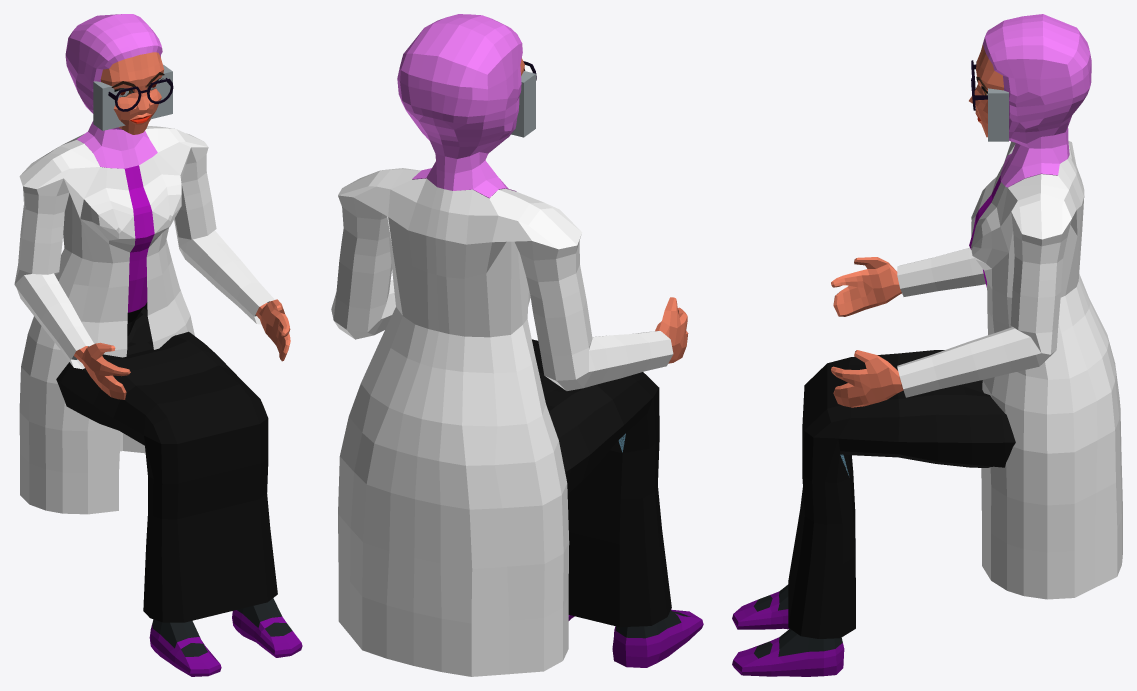
File: ScientistFemale_B_Sit_Mask.fbx
3 views of the same model, side by side, from view 1: azimuth 30°, elevation 25°; view 2: azimuth 150°, elevation 25°; view 3: azimuth 270°, elevation 25° (orthographic). The views are drawn at different scales.
Parts seen in each view (by area): view 1: ScientistFemale_B_Sit_Mask; view 2: ScientistFemale_B_Sit_Mask; view 3: ScientistFemale_B_Sit_Mask.
Part boxes in pixels (x1,y1,x2,y2): ScientistFemale_B_Sit_Mask: (14,14,302,676); ScientistFemale_B_Sit_Mask: (331,14,703,676); ScientistFemale_B_Sit_Mask: (732,14,1122,676).
Size of the model in its own units: 0.2819 by 0.7132 by 0.4047.
